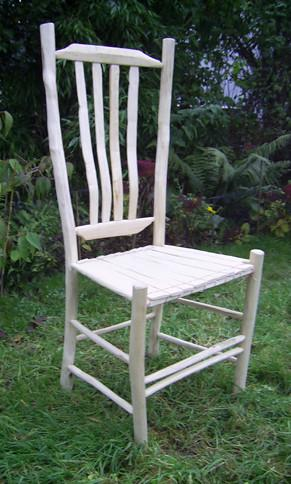chair: (40, 22, 265, 447)
